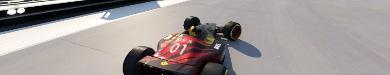Car: (121, 17, 242, 74)
